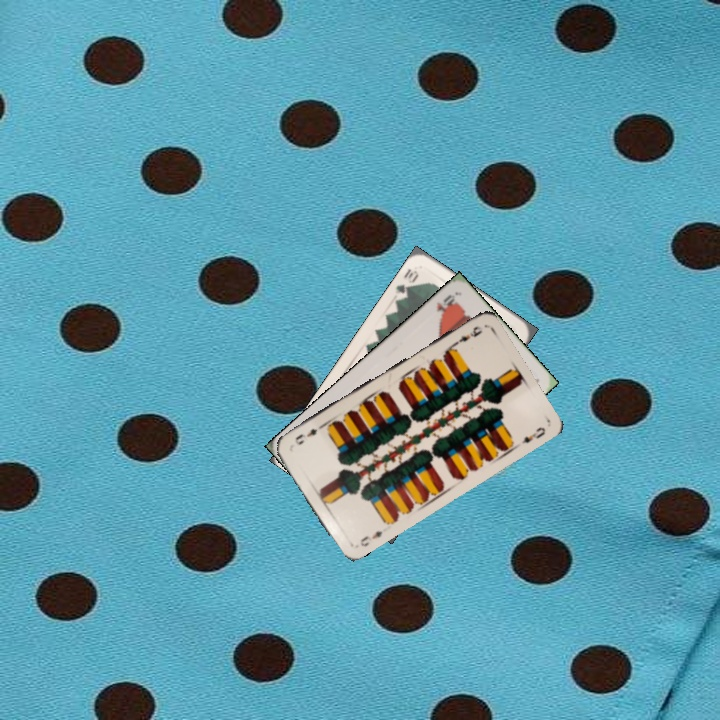E9: (448, 322, 485, 349), (356, 527, 385, 549)
G10: (391, 265, 421, 302)
HO: (432, 290, 459, 318)
